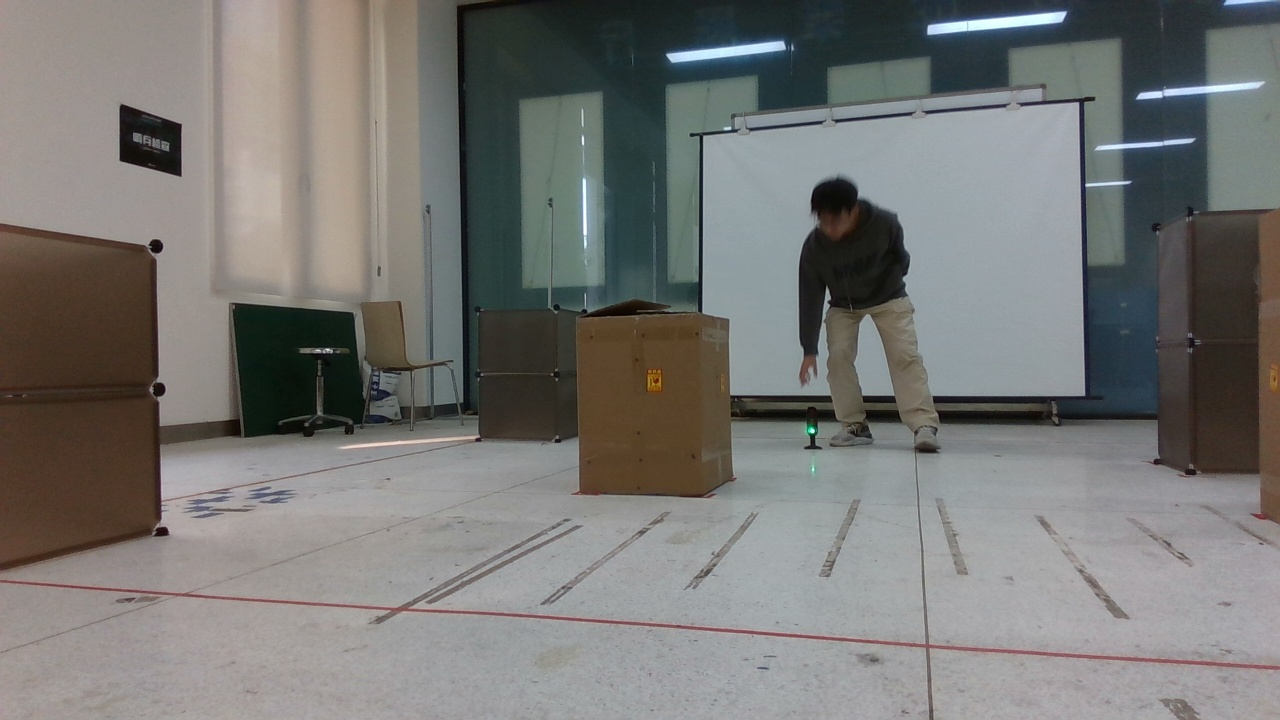green_light: (797, 402, 831, 451)
